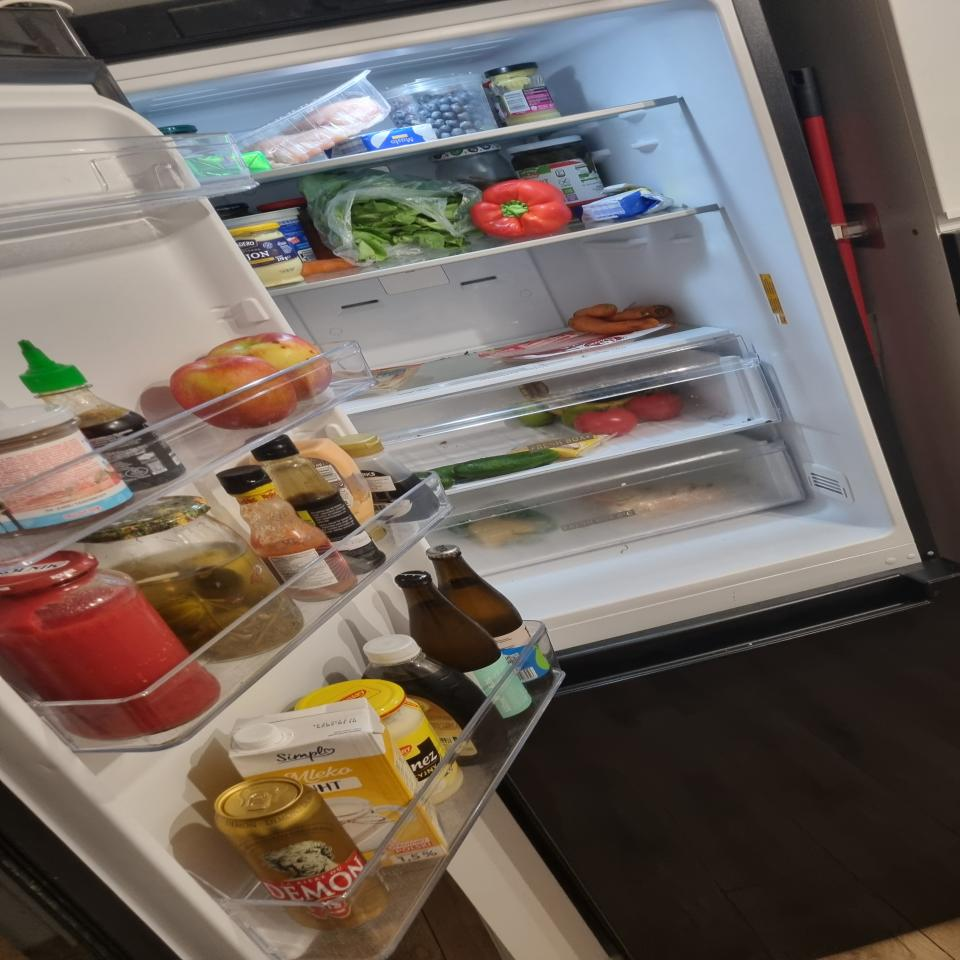Carne pollo: (234, 70, 393, 169)
Leche: (229, 698, 451, 868)
Lechuga/Endivia: (300, 168, 482, 266)
Mantequilla: (315, 124, 438, 161), (578, 184, 674, 222), (182, 151, 274, 179)
Manzana: (170, 354, 298, 429), (209, 332, 333, 400)
Pepino: (411, 449, 560, 490)
Queso: (592, 483, 720, 518), (507, 434, 610, 456), (467, 518, 535, 548)
Tomate: (574, 408, 638, 438), (626, 391, 683, 421)
Yogur: (222, 206, 317, 262)
Zanahoria: (567, 304, 672, 334), (301, 259, 357, 277)
